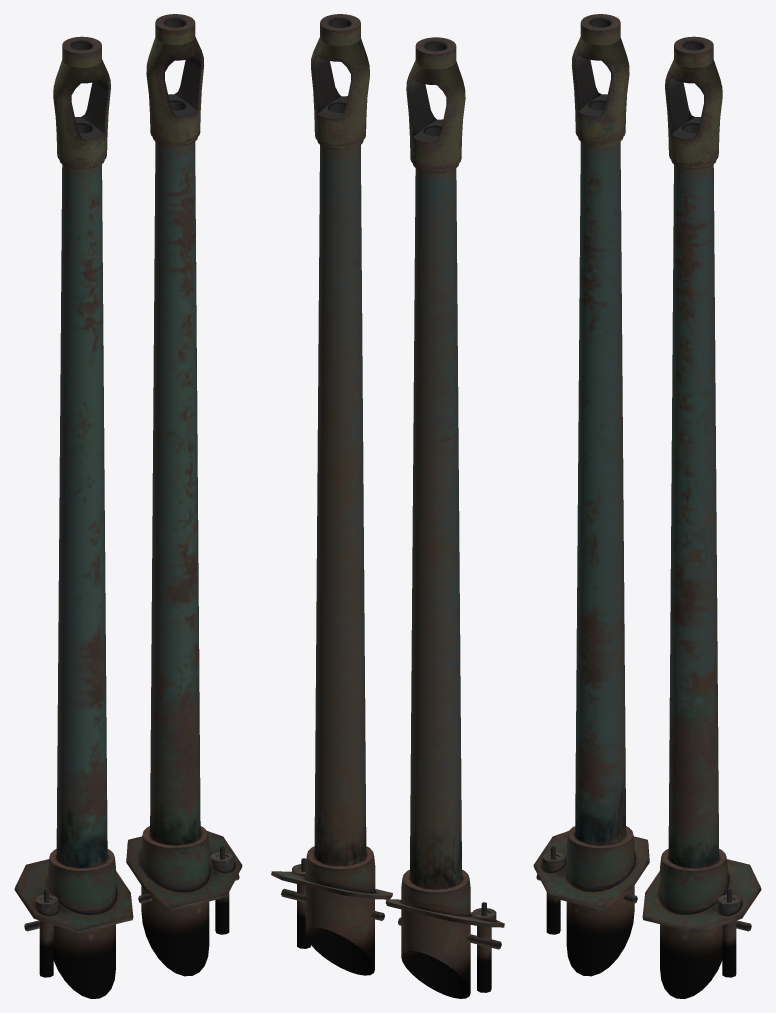
Rendered from Gun_07.glb.
3 renders of one model, left to right at view 1: azimuth 30°, elevation 25°; view 2: azimuth 150°, elevation 25°; view 3: azimuth 330°, elevation 25°, orthographic. The views are drawn at different scales.
Visible parts, largest first — view 1: set_0_group_0; view 2: set_0_group_0; view 3: set_0_group_0.
Part boxes in pixels (x1=…): set_0_group_0: x1=14, y1=14, x2=242, y2=998; set_0_group_0: x1=271, y1=14, x2=504, y2=998; set_0_group_0: x1=533, y1=14, x2=761, y2=998.
Size of the model in its own units: 1.02 by 4.35 by 0.3884.
1 material, 1 textured.
